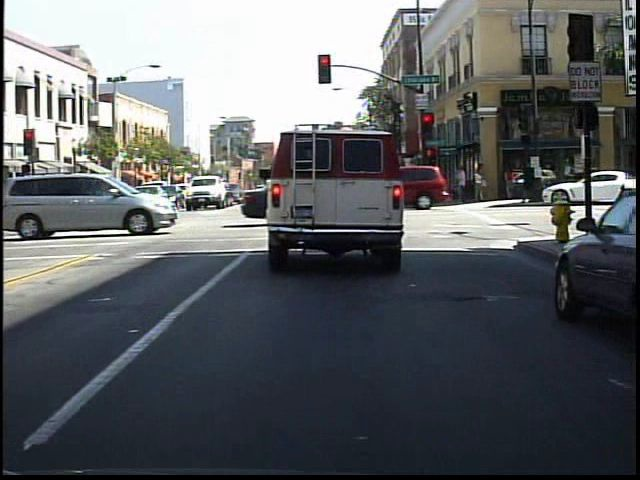person: (518, 156, 538, 206), (504, 159, 516, 199)
